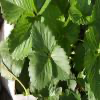Strawberry leaf: (30, 19, 57, 58), (8, 20, 35, 58), (30, 50, 54, 90), (48, 47, 72, 82), (0, 0, 40, 17)
